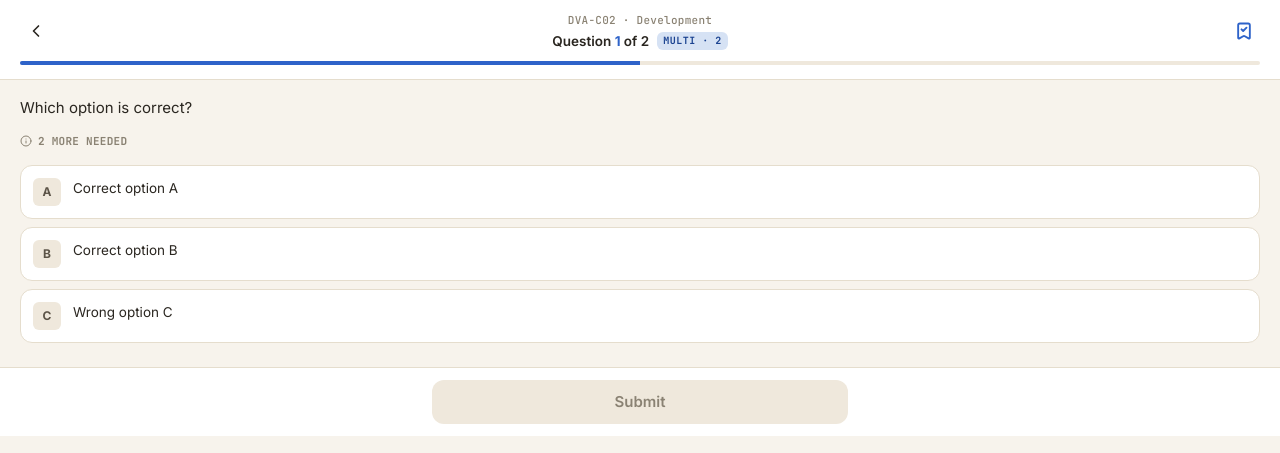
progress page compatibility › requires the full answer count before submitting a smart practice multi-select question
Expected: the button "Submit" is disabled, [432,380,848,424]
Click the text "Correct option A" at (126, 188), box [73,180,178,196]
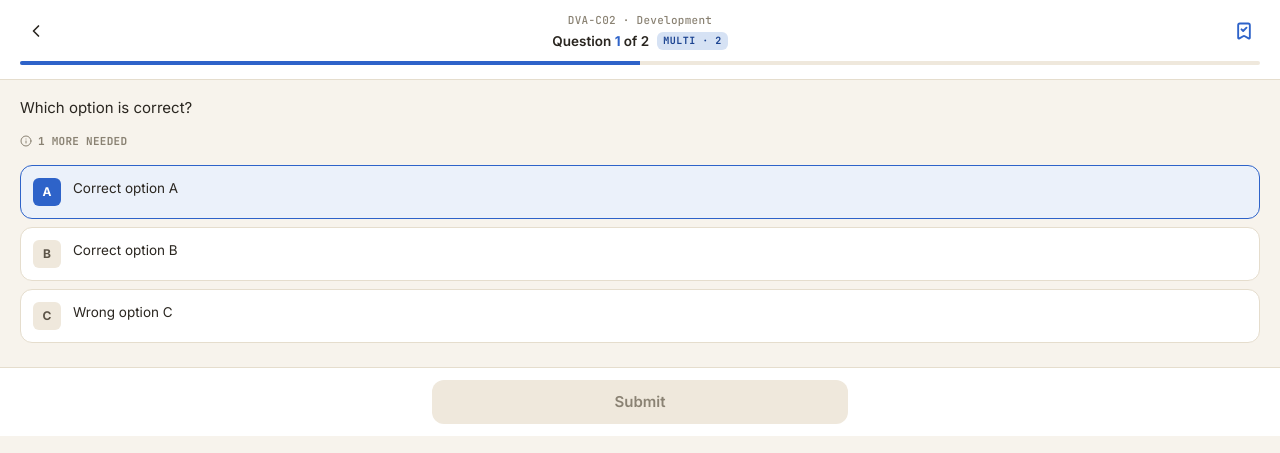
Expected: the button "Submit" is disabled, [432,380,848,424]
Click the text "Correct option B" at (125, 250), box [73,242,178,258]
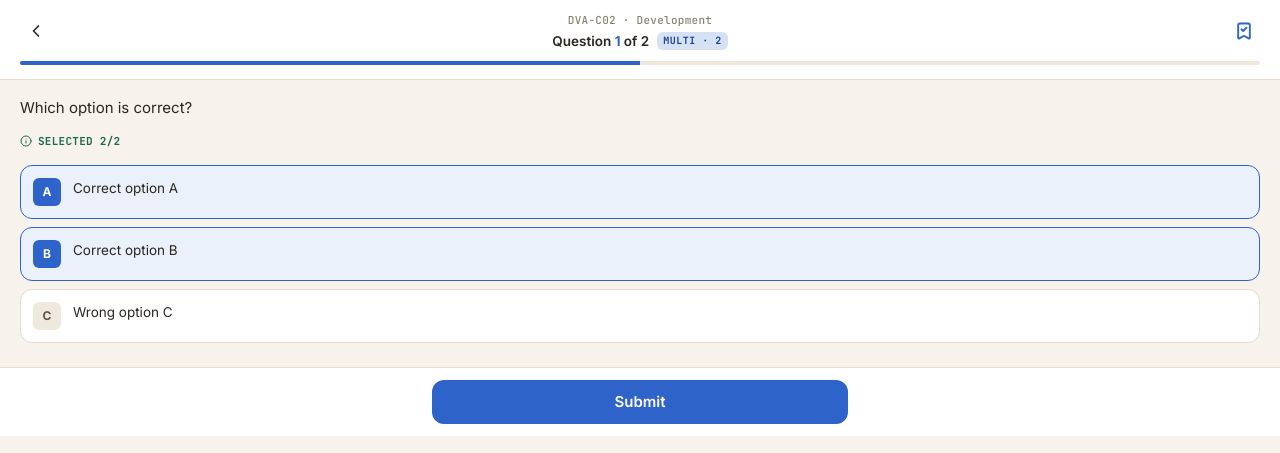
Now the button "Submit" is enabled, box [432,380,848,424]
